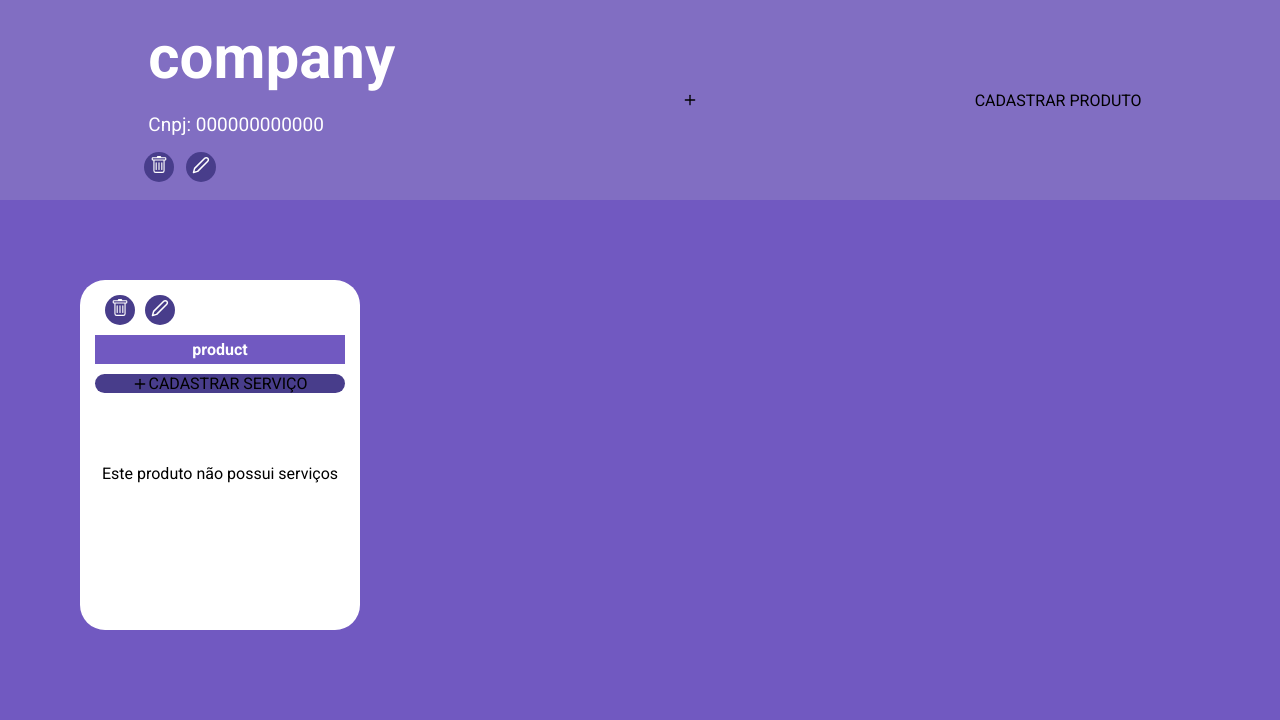
Test case: Dashboard › ProductDelete › should be able to open productDelele modal and delete the product
Step 1. Click the 3rd button → (120,310), box [105,295,135,325]
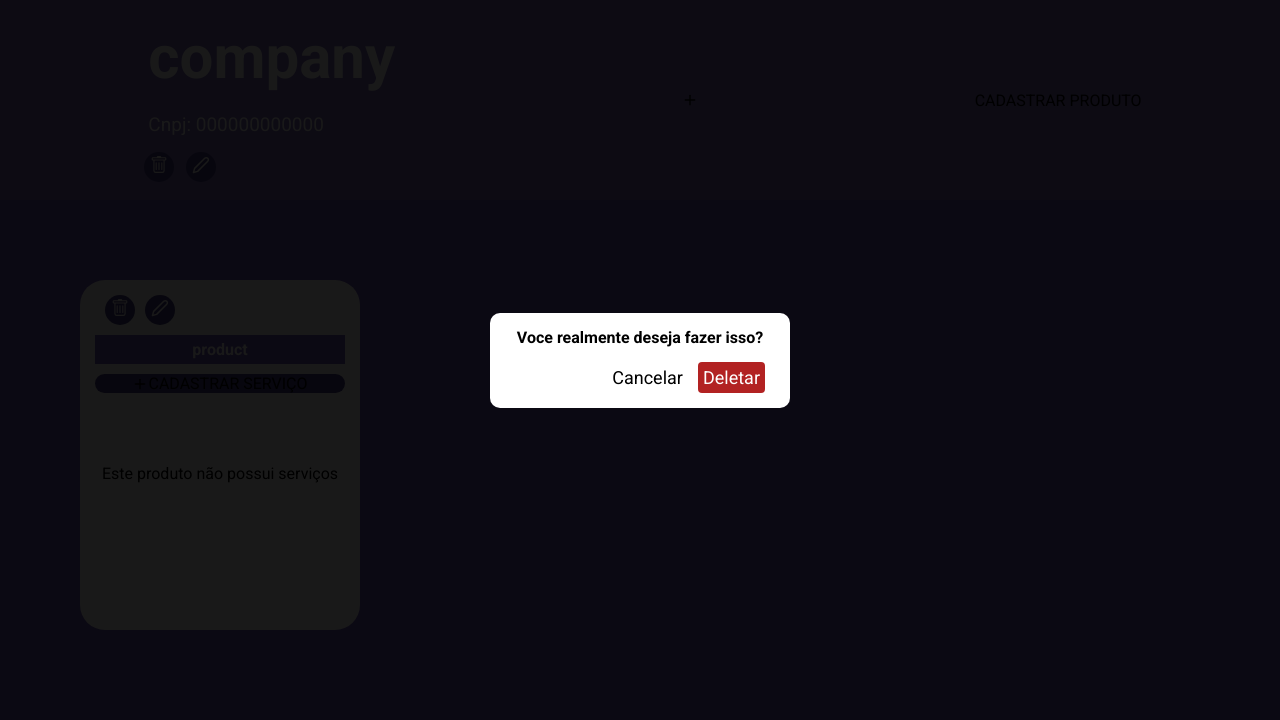
Now the dialog is shown
